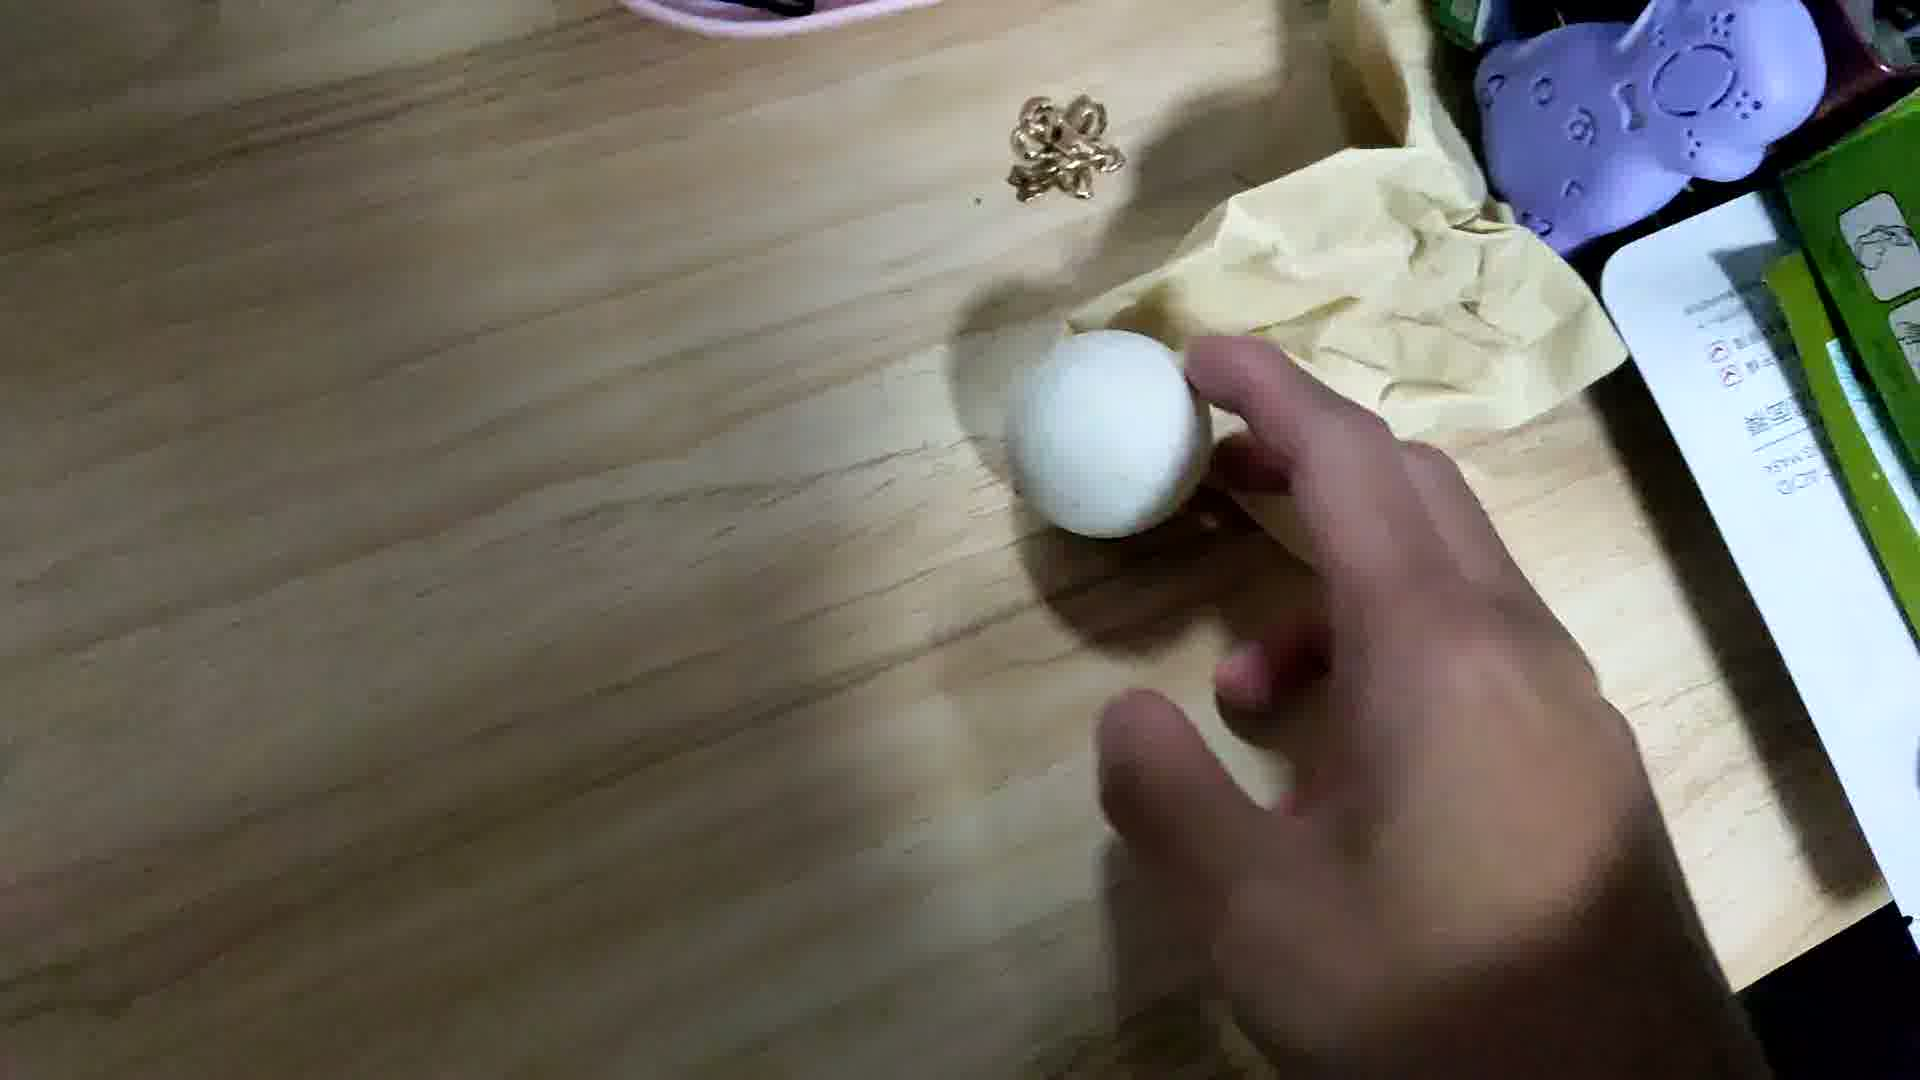Ball: (996, 327, 1217, 542)
